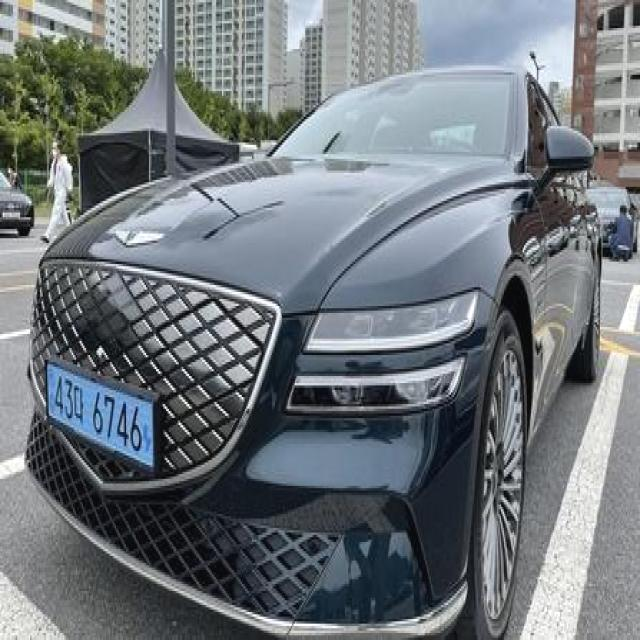EV_plate: (45, 359, 163, 481)
car: (21, 52, 607, 640)
